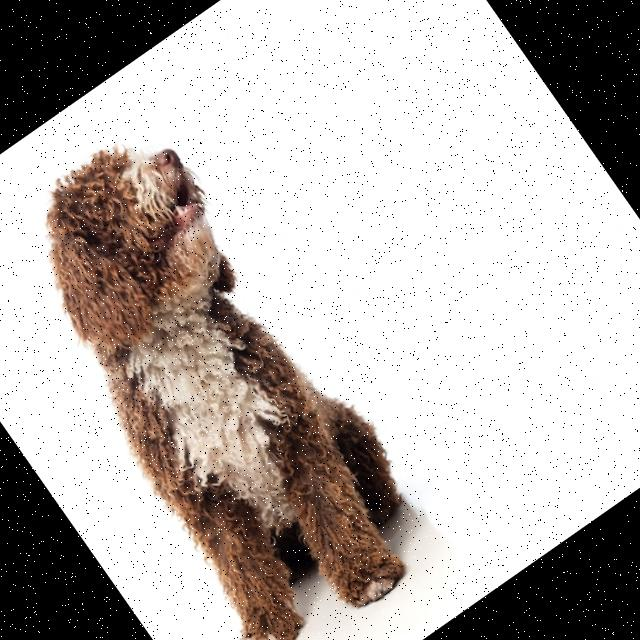Dog: (0, 111, 458, 640)
